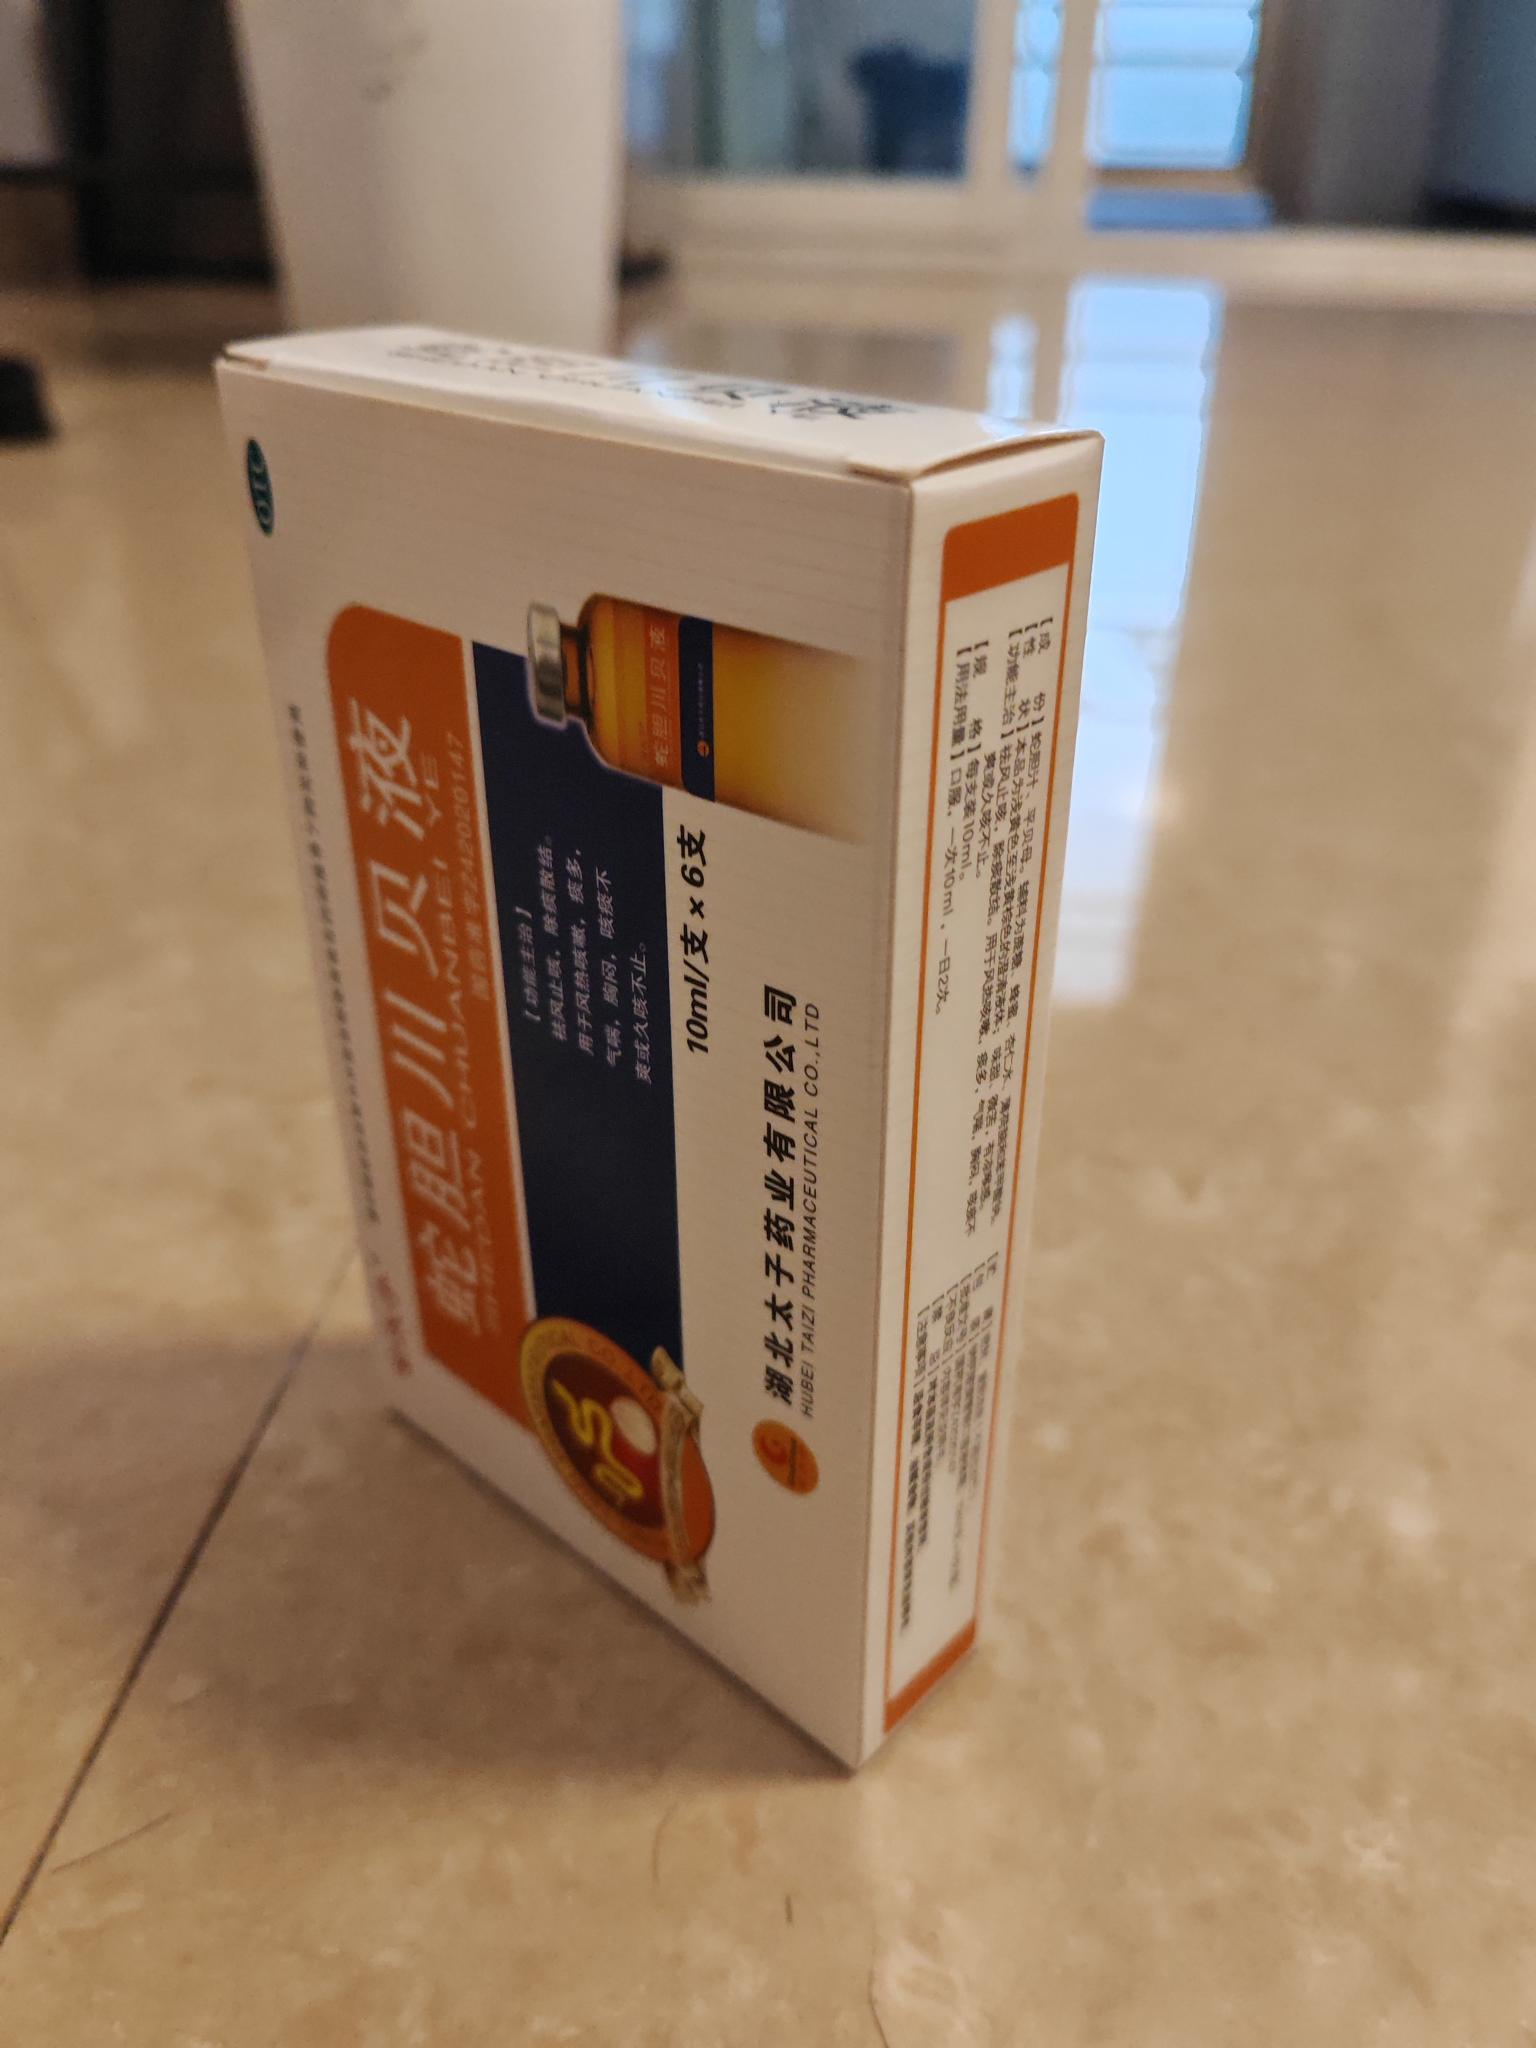Medicine5: (182, 295, 1121, 1795)
